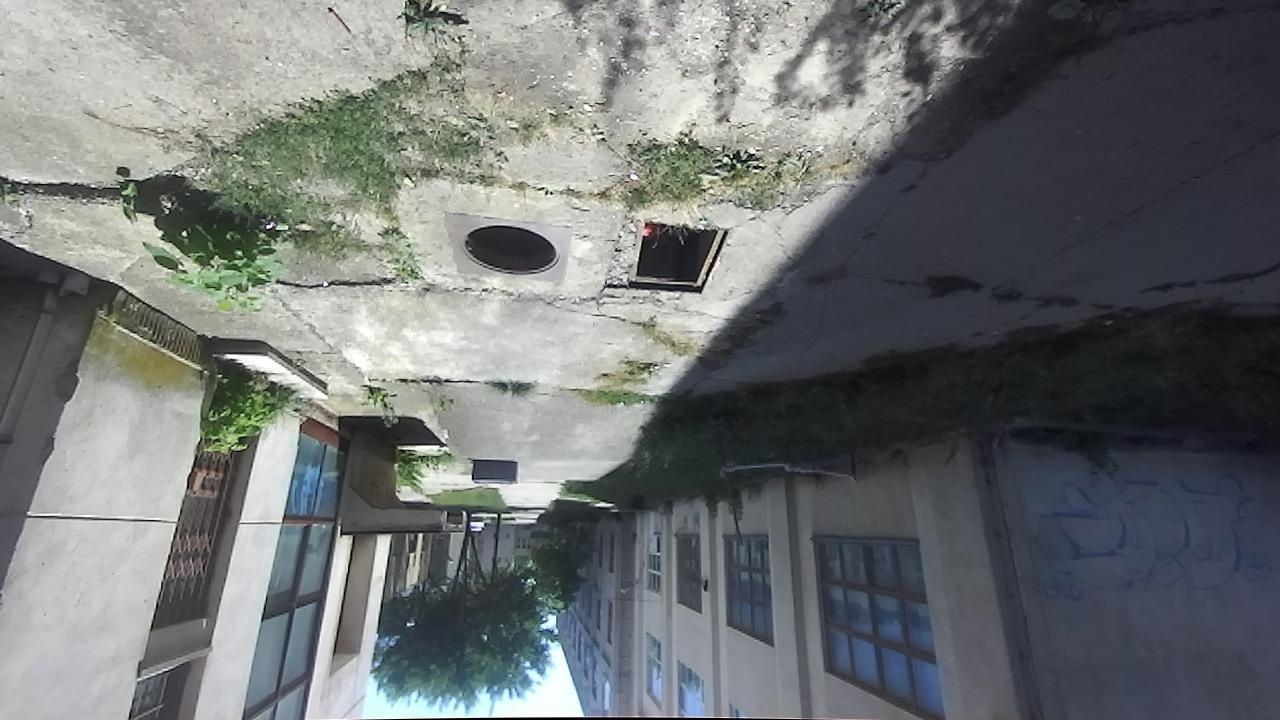drain: (623, 219, 736, 299), (454, 224, 565, 276)
